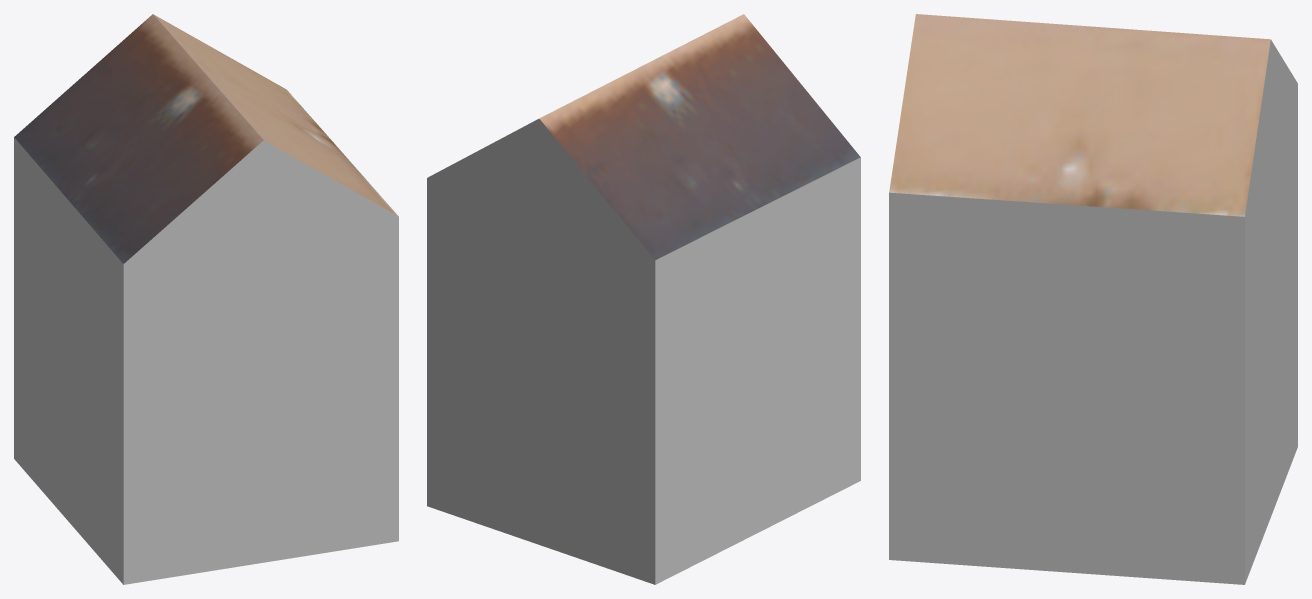
The model's file is DEBW_0010007Txhh.gltf.
3 renders of one model, left to right at view 1: azimuth 30°, elevation 25°; view 2: azimuth 150°, elevation 25°; view 3: azimuth 270°, elevation 25°, orthographic. The views are drawn at different scales.
Parts seen in each view (by area): view 1: Z_UP; view 2: Z_UP; view 3: Z_UP.
Part boxes in pixels (<box>): Z_UP: <box>14,14,398,584</box>; Z_UP: <box>427,14,860,584</box>; Z_UP: <box>889,14,1297,584</box>.
Size of the model in its own units: 13.09 by 17.82 by 13.81.
Materials: 2 (1 with a texture image).
